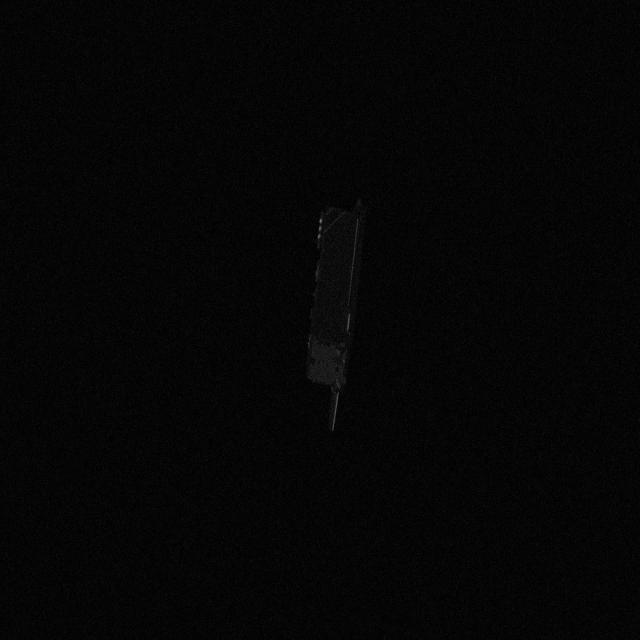satellite: (298, 188, 382, 438)
